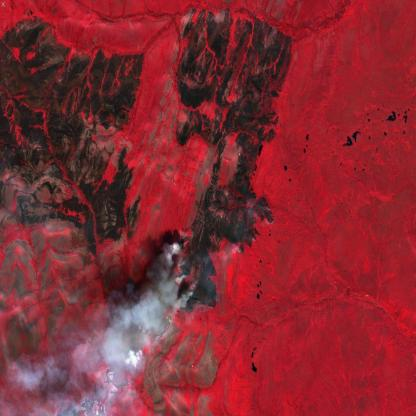fire: (156, 228, 196, 324)
